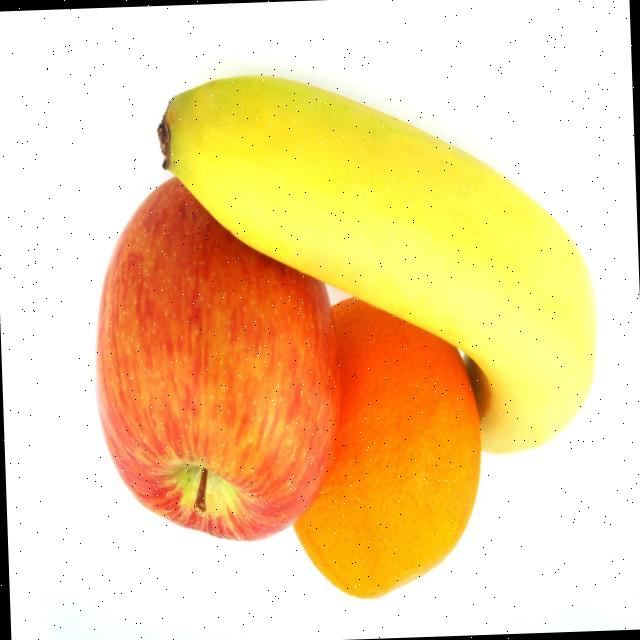Apel: (88, 170, 346, 548)
Jeruk: (284, 292, 486, 604)
Pisang: (154, 63, 600, 468)
